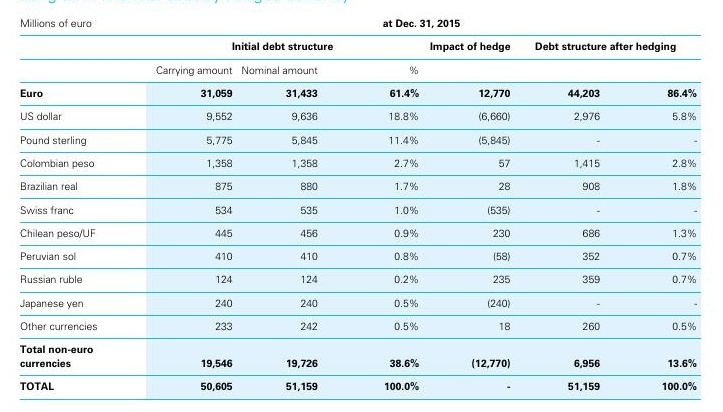table: (0, 0, 723, 412)
